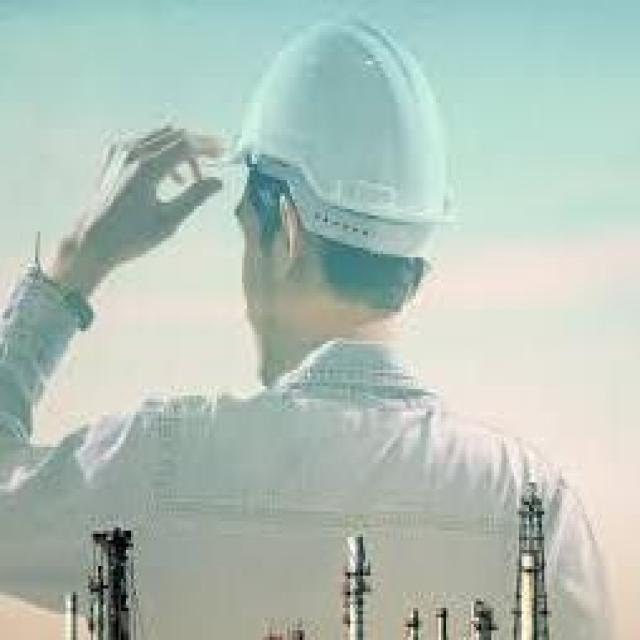Safety-Helmet: (212, 7, 488, 245)
